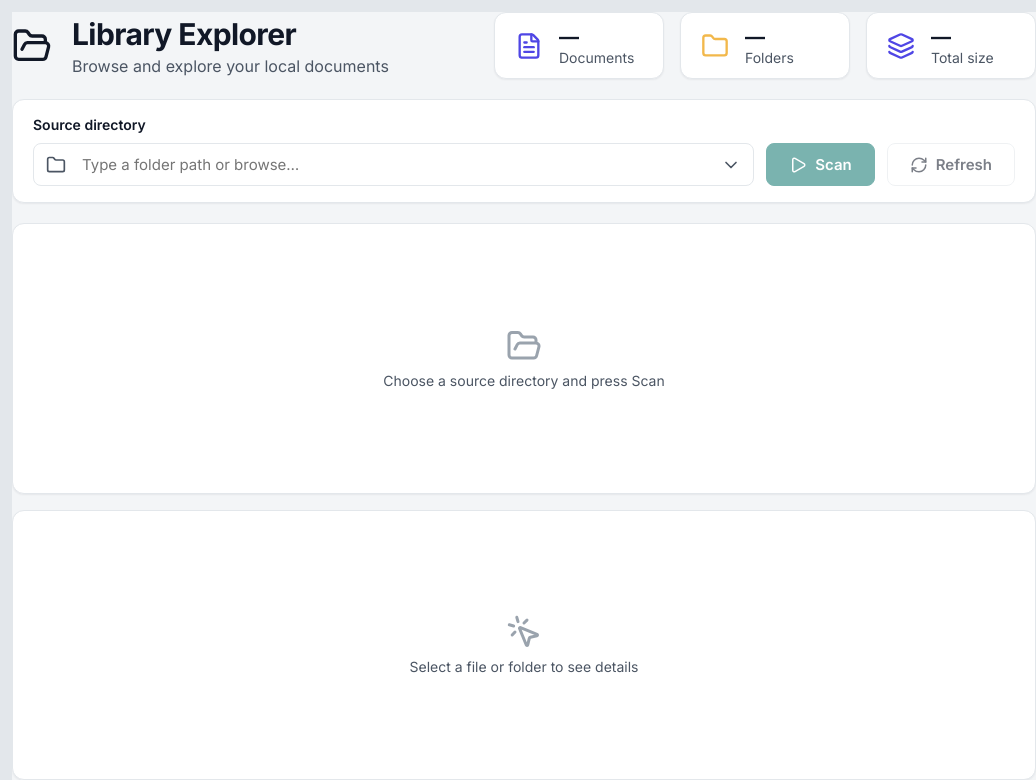
it: LibraryPage › shows an unreachable backend instead of a blank page
Type "C:/Docs" into the field labelled "Source directory" at (394, 164), box x1=78 y1=144 x2=709 y2=185
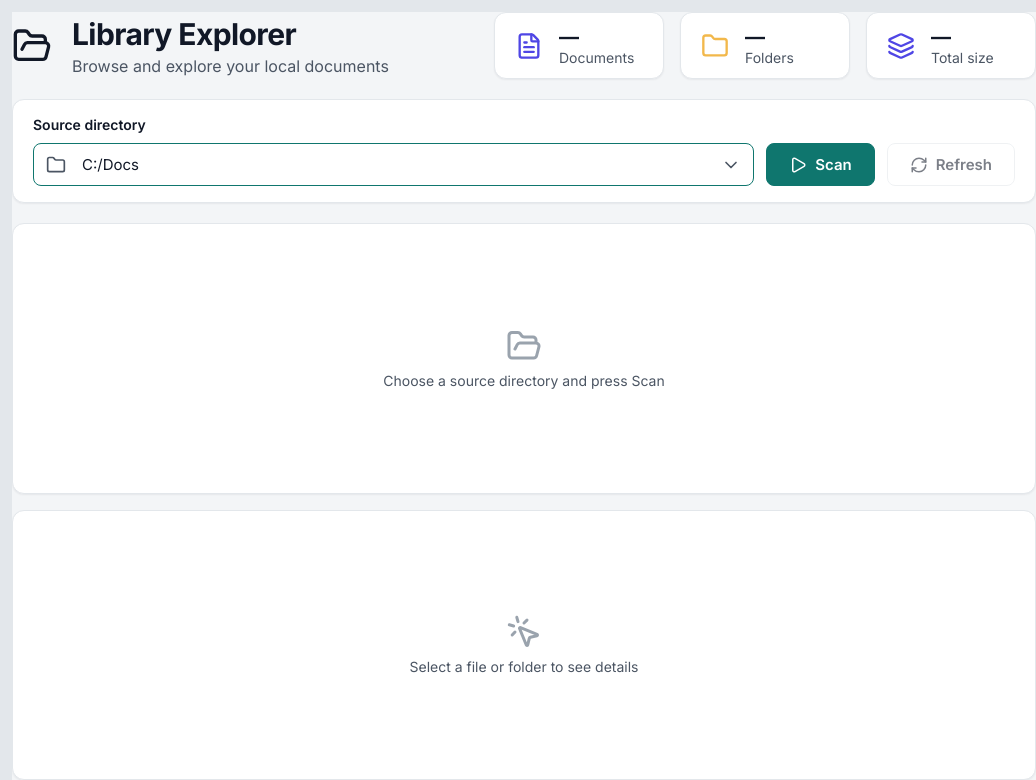
Click the button "Scan" at (820, 164), box x1=766 y1=143 x2=875 y2=186
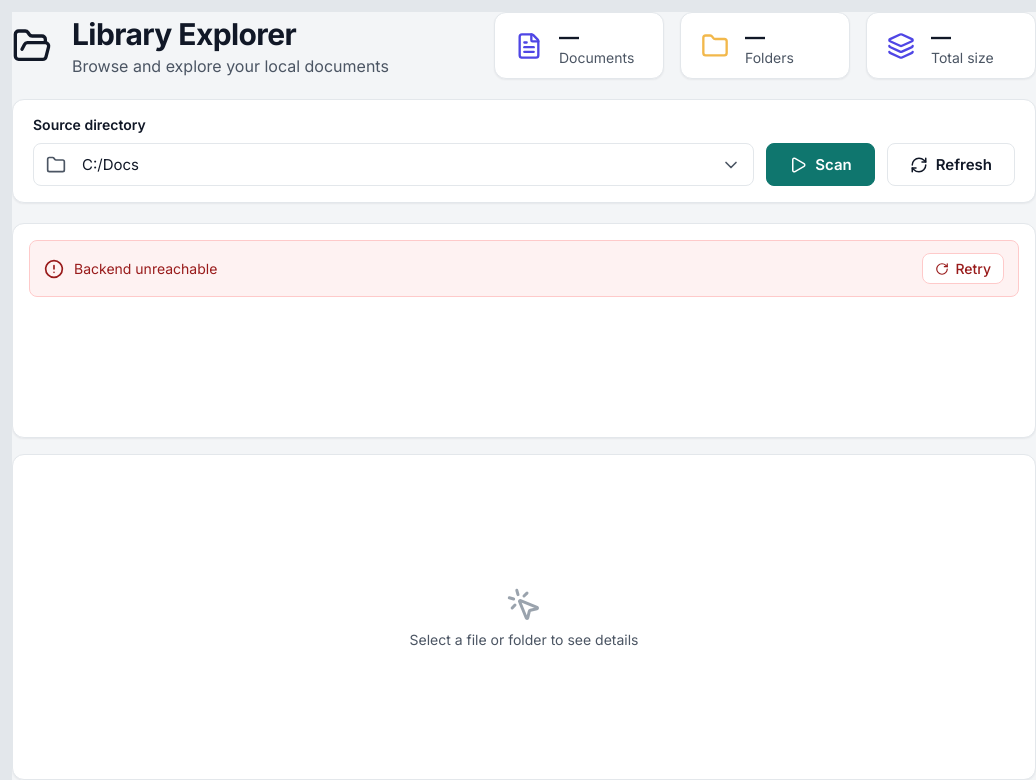
expect the text "Backend unreachable" is shown: met, box x1=74 y1=260 x2=217 y2=277
